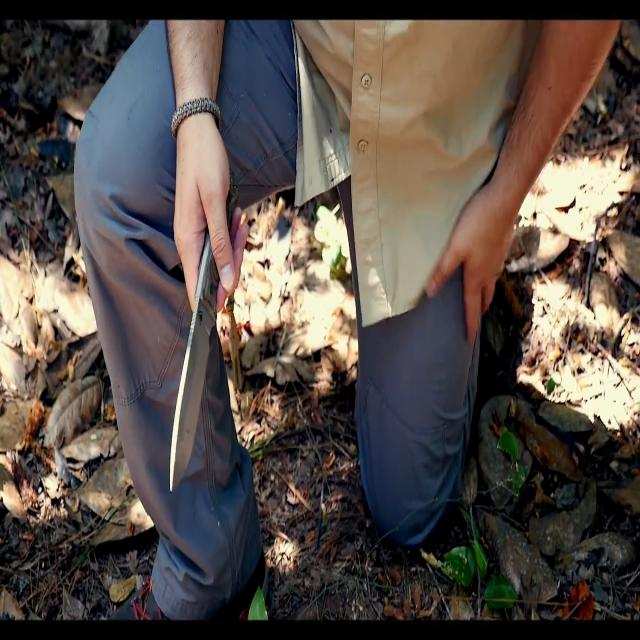knife: (166, 267, 221, 507)
